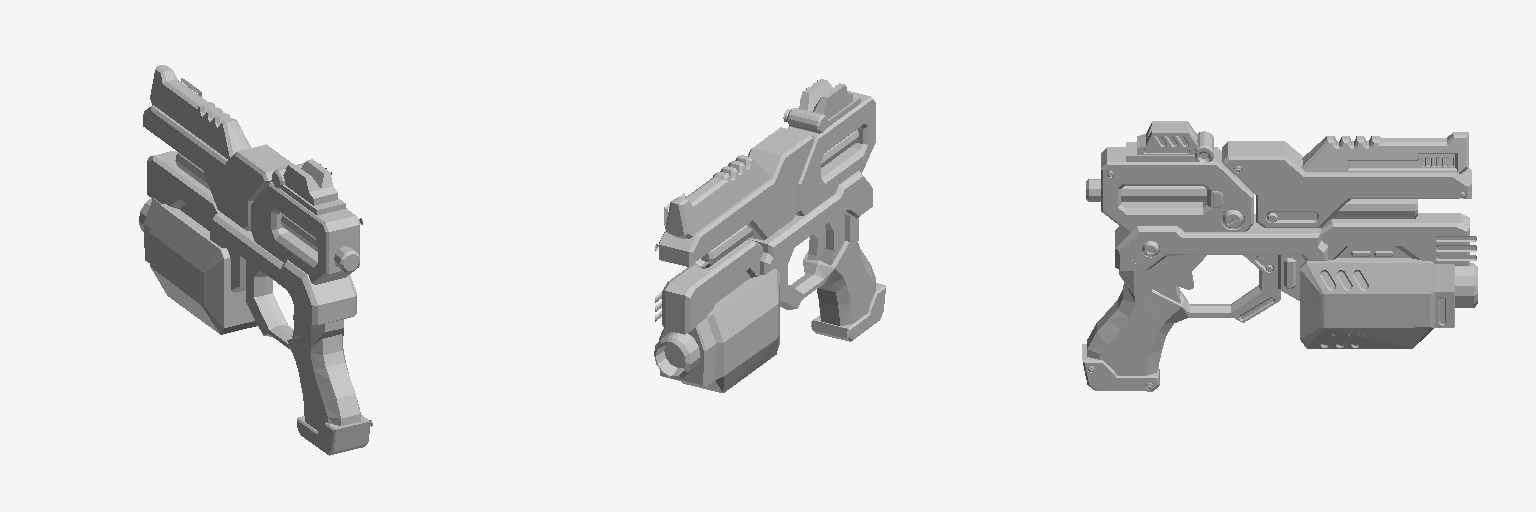
File: Scifigun.obj
3 views of the same model, side by side, from view 1: azimuth 30°, elevation 25°; view 2: azimuth 150°, elevation 25°; view 3: azimuth 270°, elevation 25° (orthographic).
Visible parts, largest first — view 1: ScifiGun; view 2: ScifiGun; view 3: ScifiGun.
Boxes of the visible parts, <box> form: ScifiGun: <box>139,65,372,455</box>; ScifiGun: <box>654,79,885,392</box>; ScifiGun: <box>1082,121,1477,391</box>.
Size of the model in its own units: 0.0488 by 0.1867 by 0.2616.